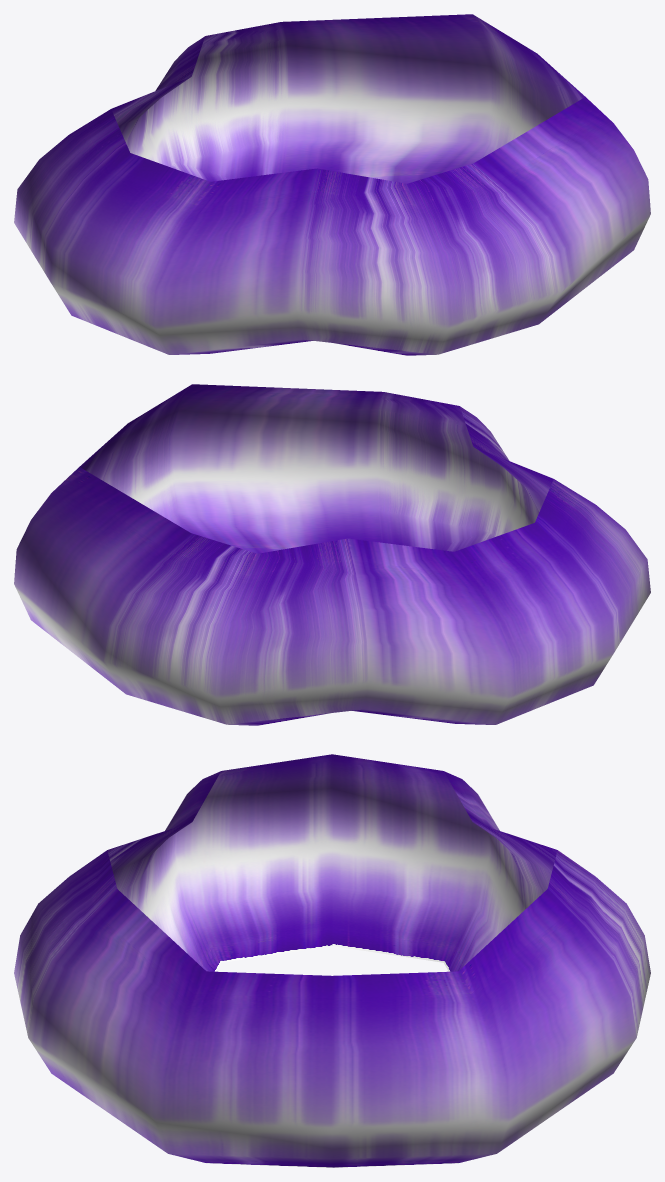
The model's file is constructor_unit_plasma.obj.
The picture shows the model from 3 angles, top to bottom: view 1: azimuth 30°, elevation 25°; view 2: azimuth 150°, elevation 25°; view 3: azimuth 270°, elevation 25°; orthographic projection. The views are drawn at different scales.
Visible parts, largest first — view 1: pSphere8; view 2: pSphere8; view 3: pSphere8.
Part boxes in pixels (box(x1,y1,x2,y2)): pSphere8: box(14, 14, 650, 355); pSphere8: box(14, 384, 650, 725); pSphere8: box(14, 754, 650, 1167).
Size of the model in its own units: 50.54 by 15.66 by 47.12.
1 material, 1 textured.
